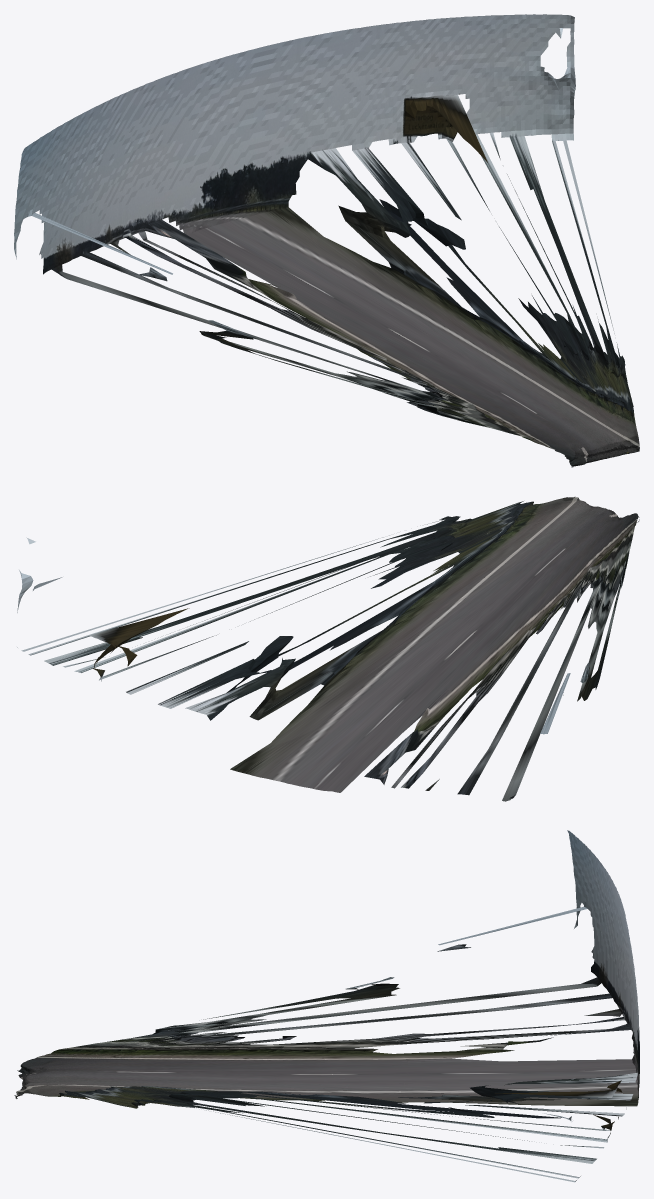
3 views of the same model, one above another, from view 1: azimuth 30°, elevation 25°; view 2: azimuth 150°, elevation 25°; view 3: azimuth 270°, elevation 25° (orthographic). The views are drawn at different scales.
Parts seen in each view (by area): view 1: defaultobject; view 2: defaultobject; view 3: defaultobject.
Boxes of the visible parts, x1,y1,x2,y2 form: defaultobject: [14, 14, 639, 467]; defaultobject: [17, 496, 639, 801]; defaultobject: [14, 830, 639, 1182].
Bounding box in the file's own units: 41.06 × 12.16 × 44.61.
1 material, 1 textured.
